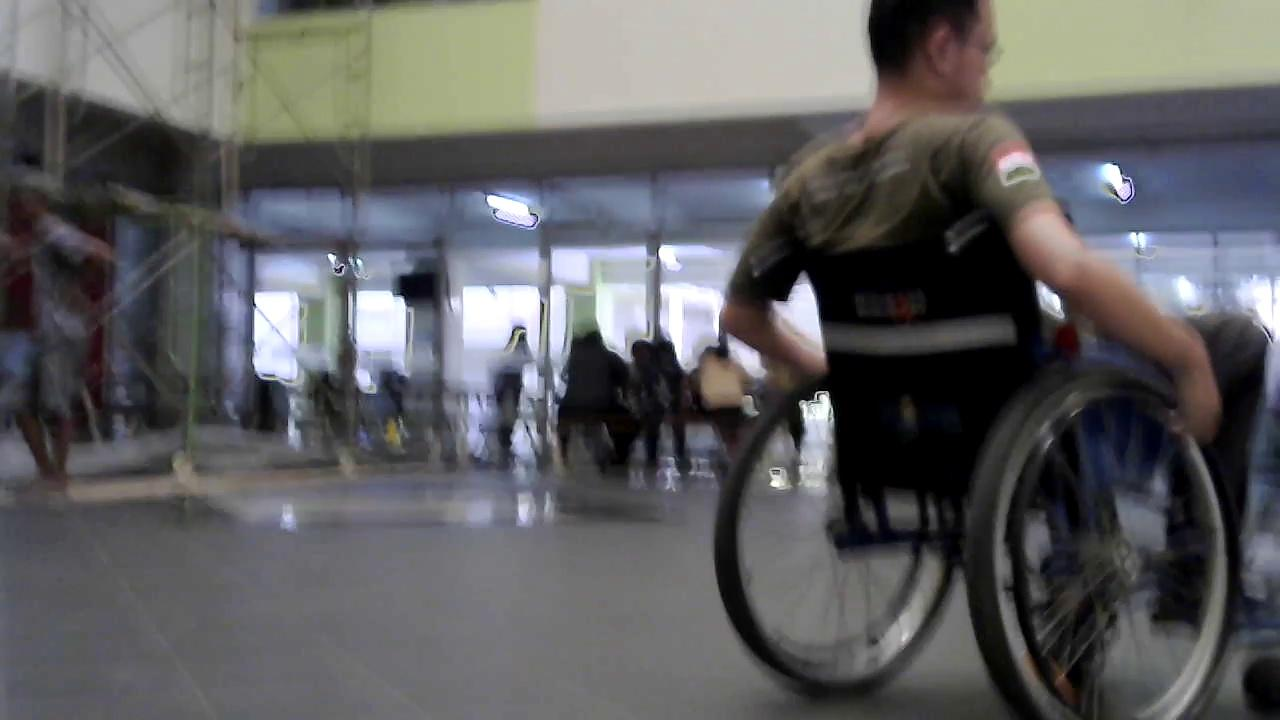person: (717, 3, 1224, 524), (557, 324, 630, 471), (626, 330, 689, 492), (374, 361, 411, 455)
wheelchair: (678, 218, 1267, 714)
